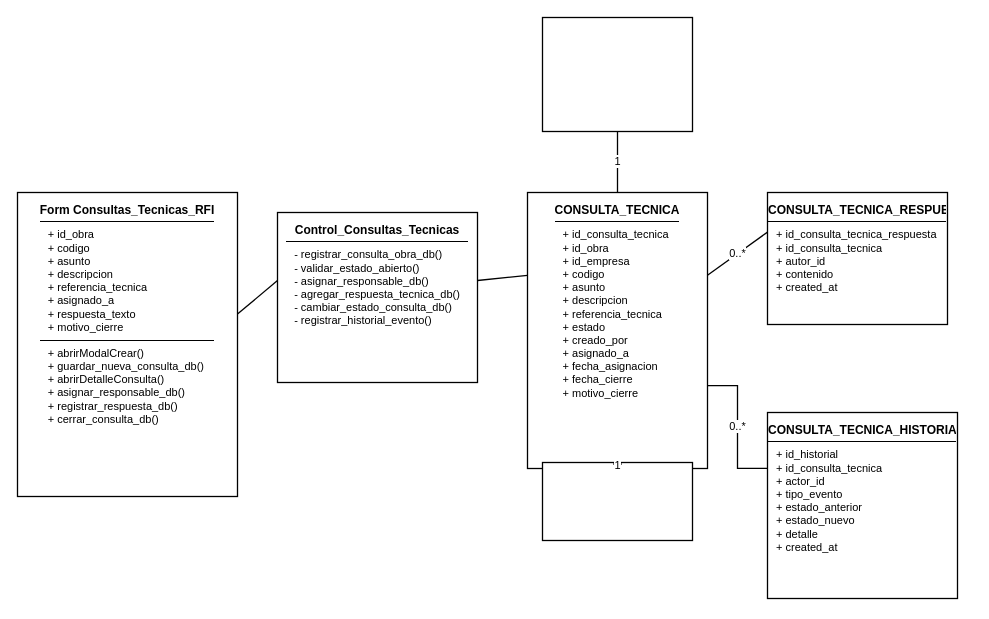
The diagram is 989 pixels wide and 619 high, and some of its shapes have lost their labels. Here are the shapes that lost their labels. From the top down, the box of each, then its label:
(541, 16, 693, 132): OBRA + id_obra + nombre + codigo + estado
(541, 461, 693, 541): Empresa + id_empresa + nombre_empresa
